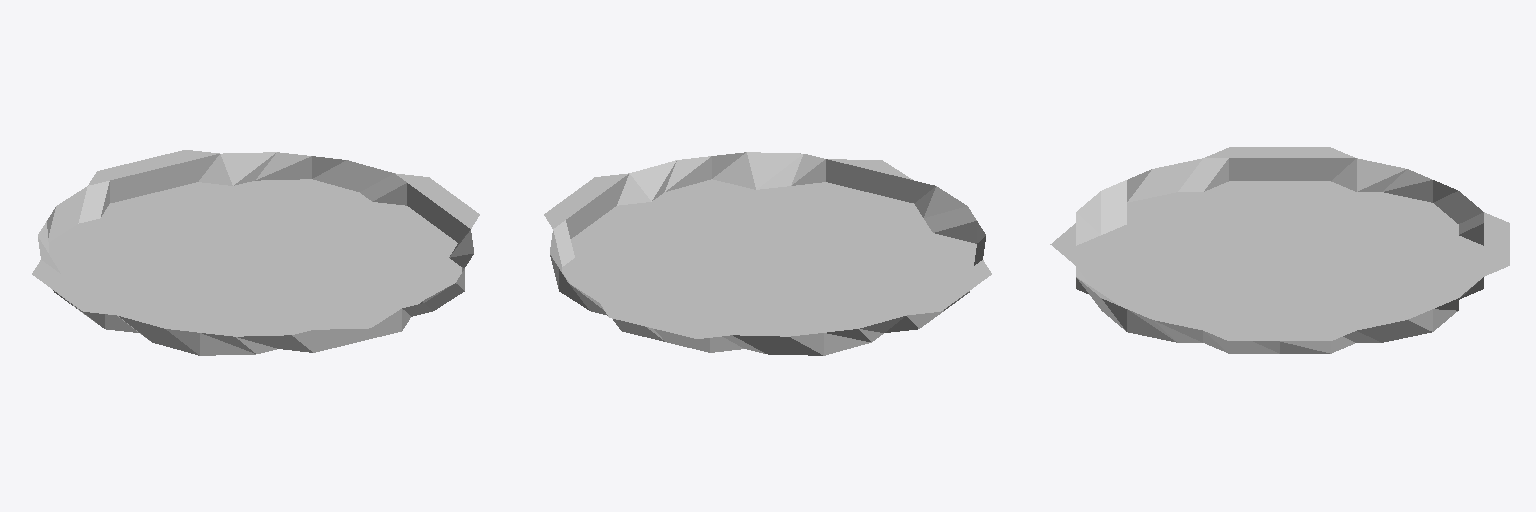
The model's file is plate.obj.
3 renders of one model, left to right at view 1: azimuth 30°, elevation 25°; view 2: azimuth 150°, elevation 25°; view 3: azimuth 270°, elevation 25°, orthographic.
Parts seen in each view (by area): view 1: Sphere001; view 2: Sphere001; view 3: Sphere001.
Part boxes in pixels (left/top/right/bottom): Sphere001: left=32, top=150, right=479, bottom=355; Sphere001: left=544, top=152, right=991, bottom=355; Sphere001: left=1050, top=147, right=1509, bottom=353.
Bounding box in the file's own units: 0.0018 × 0.0001 × 0.0018.